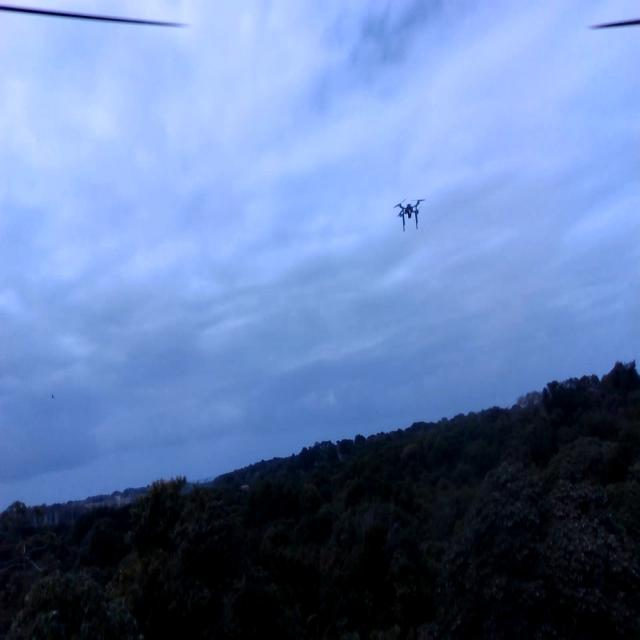-uav-: (388, 185, 431, 240)
